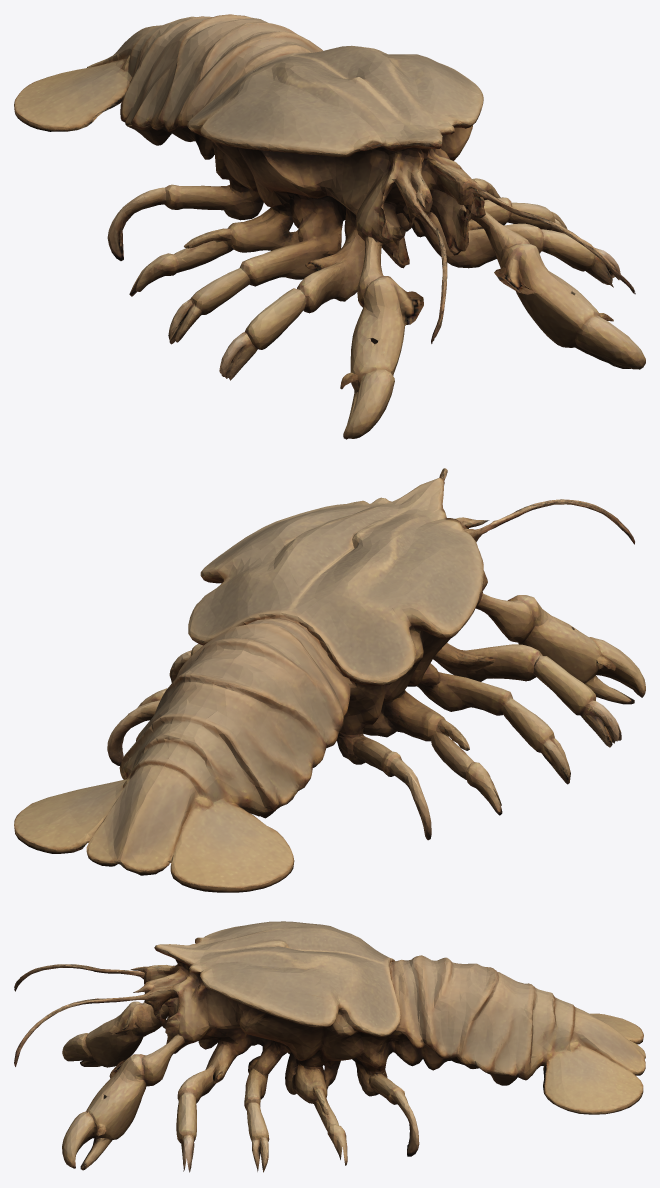
3 renders of one model, top to bottom at view 1: azimuth 30°, elevation 25°; view 2: azimuth 150°, elevation 25°; view 3: azimuth 270°, elevation 25°, orthographic. The views are drawn at different scales.
Visible parts, largest first — view 1: world; view 2: world; view 3: world.
Boxes of the visible parts, x1,y1,x2,y2 form: world: [14, 14, 645, 439]; world: [14, 468, 645, 892]; world: [14, 921, 645, 1172].
Bounding box in the file's own units: 0.0664 × 0.037 × 0.1194.
Materials: 1 (1 with a texture image).
